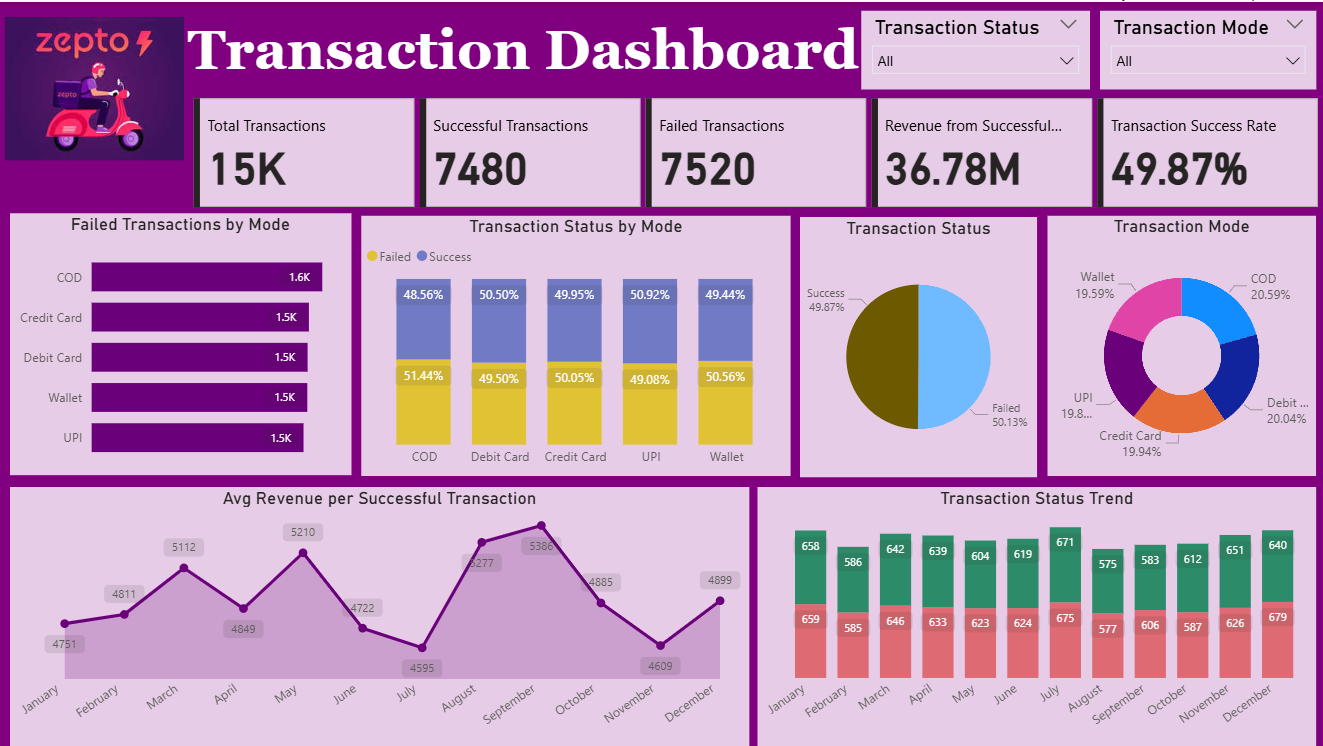

Layout of this report page (visuals, bound fields, positions):
{"tool":"powerbi","page":{"name":"Transactions","canvas":[1280,720],"ordinal":3},"visuals":[{"type":"shape","box":[0,0,170.1,144.8],"z":0},{"type":"image","box":[0,0,182.5,167.5],"z":1000},{"type":"textbox","box":[170.1,10.9,669.6,72.4],"z":2000},{"type":"slicer","fields":{"Values":["Transactions.Transaction_Status"]},"box":[831.2,8.4,220.8,76],"z":3000},{"type":"cardVisual","fields":{"Data":["All Measures.Total Transactions","All Measures.Successful Transactions","All Measures.Failed Transactions","All Measures.Revenue from Successful Transactions","All Measures.Transaction Success Rate"]},"box":[182.2,88.1,1097.9,115.8],"z":4000},{"type":"donutChart","title":"Transaction Status","fields":{"Category":["Transactions.Transaction_Status"],"Y":["CountNonNull(Transactions.Tr_ID)"]},"box":[772.6,207.2,229.2,251.1],"z":5000},{"type":"slicer","fields":{"Values":["Transactions.Transaction_Mode"]},"box":[1061.7,8.4,208.7,76],"z":6000},{"type":"donutChart","title":"Transaction Mode","fields":{"Category":["Transactions.Transaction_Mode"],"Y":["CountNonNull(Transactions.Tr_ID)"]},"box":[1011.3,205.8,259.3,251.1],"z":7000},{"type":"columnChart","title":"Transaction Status Trend","fields":{"Category":["Orders.Order_Date.Variation.Date Hierarchy.Month"],"Y":["Count(Transactions.Tr_ID)"],"Series":["Transactions.Transaction_Status"]},"box":[731.4,467.9,539.3,252.5],"z":8001},{"type":"clusteredBarChart","title":"Failed Transactions by Mode","fields":{"Category":["Transactions.Transaction_Mode"],"Y":["All Measures.Failed Transactions"]},"box":[9.6,204.5,329.3,252.5],"z":8002},{"type":"lineChart","title":"Avg Revenue per Successful Transaction","fields":{"Category":["Orders.Order_Date.Variation.Date Hierarchy.Month","Orders.Order_Date.Variation.Date Hierarchy.Day"],"Y":["All Measures.Avg Revenue per Successful Transaction"]},"box":[9.6,467.9,713.6,252.5],"z":8003},{"type":"hundredPercentStackedColumnChart","title":"Transaction Status by Mode","fields":{"Category":["Transactions.Transaction_Mode"],"Y":["All Measures.Total Transactions"],"Series":["Transactions.Transaction_Status"]},"box":[348.5,205.8,414.4,251.1],"z":8005}]}

Visuals, with their boxes in screenshot pixels (x1, y1, x2, y2), scaled from the page's 1280x720 canvas onto the 1323x746 screenshot:
shape: 0,0,176,150
image: 0,0,189,174
textbox: 176,11,868,86
slicer - Transactions.Transaction_Status: 859,9,1087,87
cardVisual - All Measures.Total Transactions x All Measures.Successful Transactions: 188,91,1322,211
"Transaction Status" donutChart: 799,215,1035,475
slicer - Transactions.Transaction_Mode: 1097,9,1313,87
"Transaction Mode" donutChart: 1045,213,1313,473
"Transaction Status Trend" columnChart: 756,485,1313,745
"Failed Transactions by Mode" clusteredBarChart: 10,212,350,474
"Avg Revenue per Successful Transaction" lineChart: 10,485,747,745
"Transaction Status by Mode" hundredPercentStackedColumnChart: 360,213,789,473
